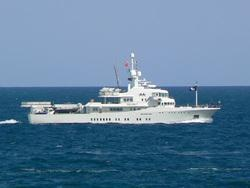yacht: (21, 61, 224, 128)
